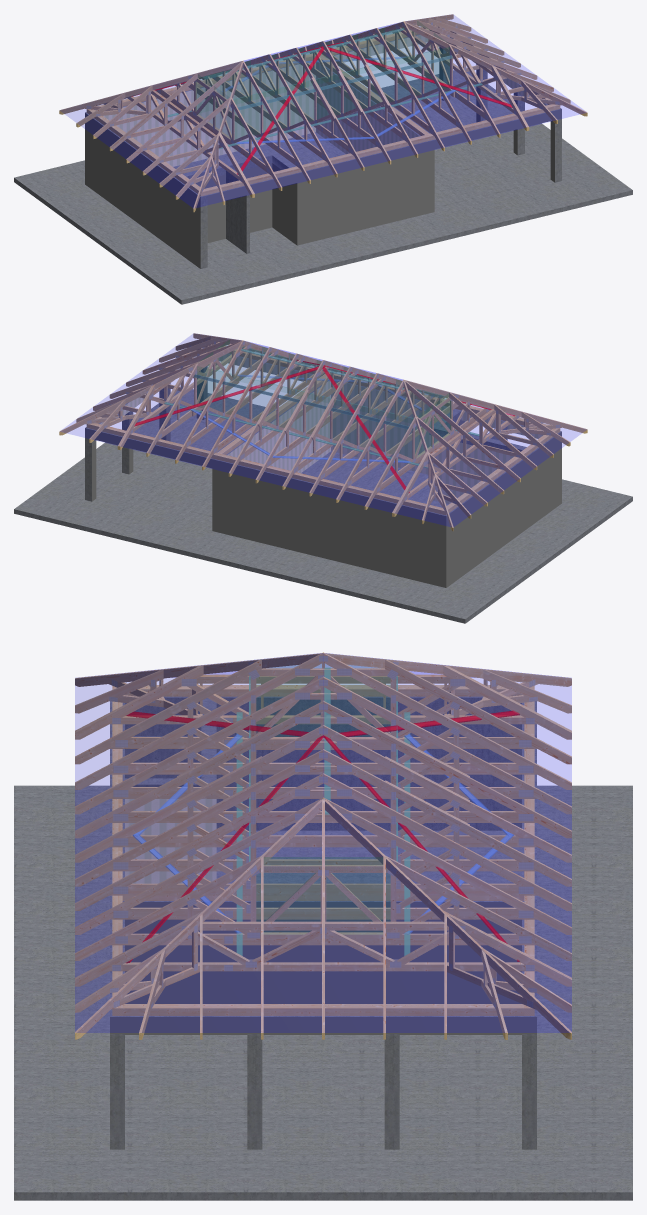
The picture shows the model from 3 angles, top to bottom: view 1: azimuth 30°, elevation 25°; view 2: azimuth 150°, elevation 25°; view 3: azimuth 270°, elevation 25°; orthographic projection. The views are drawn at different scales.
Parts seen in each view (by area): view 1: skfb_offset; view 2: skfb_offset; view 3: skfb_offset.
Part boxes in pixels (x1,y1,x2,y2): skfb_offset: [14, 14, 632, 304]; skfb_offset: [14, 333, 632, 623]; skfb_offset: [14, 652, 632, 1200].
Bounding box in the file's own units: 15760 × 4917 × 10140.
12 materials, 7 textured.
